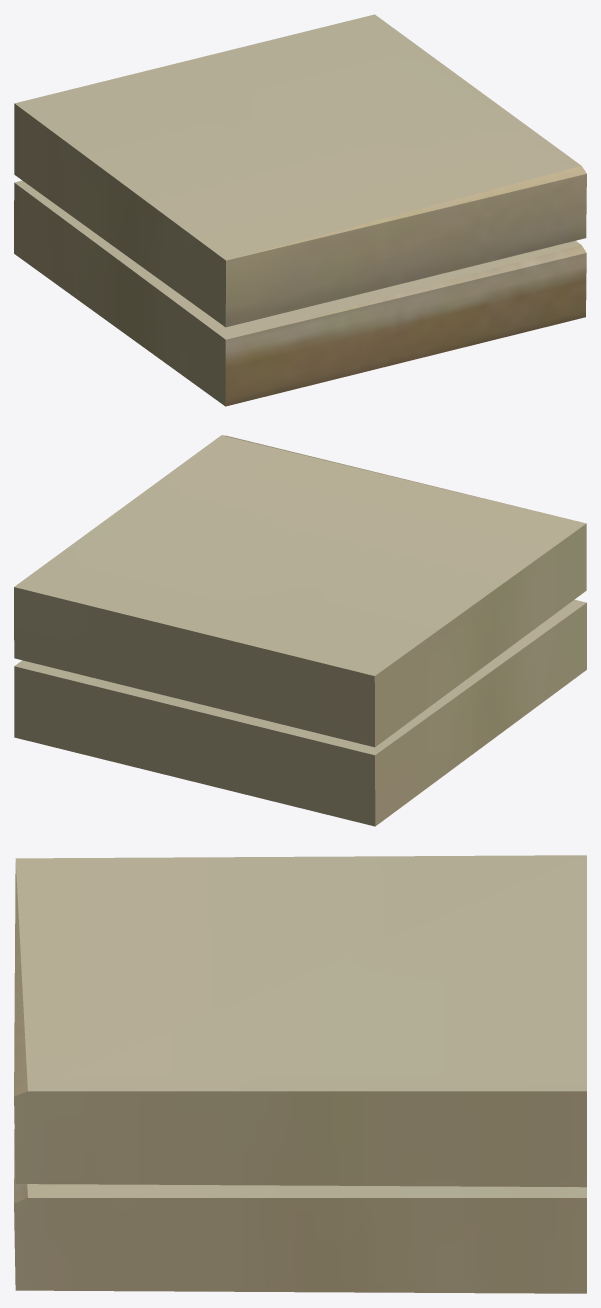
The model's file is book3_h2.dae.
3 renders of one model, top to bottom at view 1: azimuth 30°, elevation 25°; view 2: azimuth 150°, elevation 25°; view 3: azimuth 270°, elevation 25°, orthographic. The views are drawn at different scales.
Parts seen in each view (by area): view 1: node; view 2: node; view 3: node.
Part boxes in pixels (left/top/right/bottom): node: left=14, top=14, right=586, bottom=406; node: left=14, top=435, right=586, bottom=826; node: left=14, top=855, right=586, bottom=1293.
Bounding box in the file's own units: 0.1179 × 0.0472 × 0.1201.
1 material, 1 textured.
